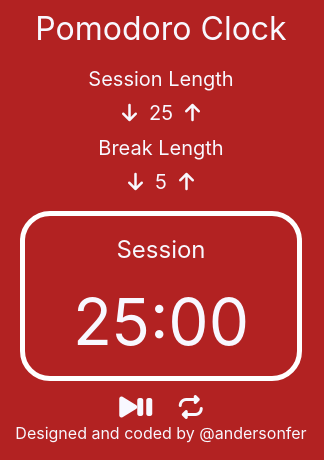
it: Tests for the BreakSetup component › should increment the break length when clicked
This screenshot has width=324, height=460.
What coordinates should you click on to do the following:
click the button named "Increment break length"
I would click on:
 (186, 183)
Its box is [173,170,200,195].
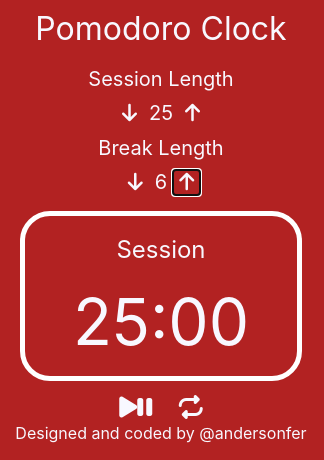
Expected: the text titled "Break length in minutes" reads "6", [155,170,167,194]
